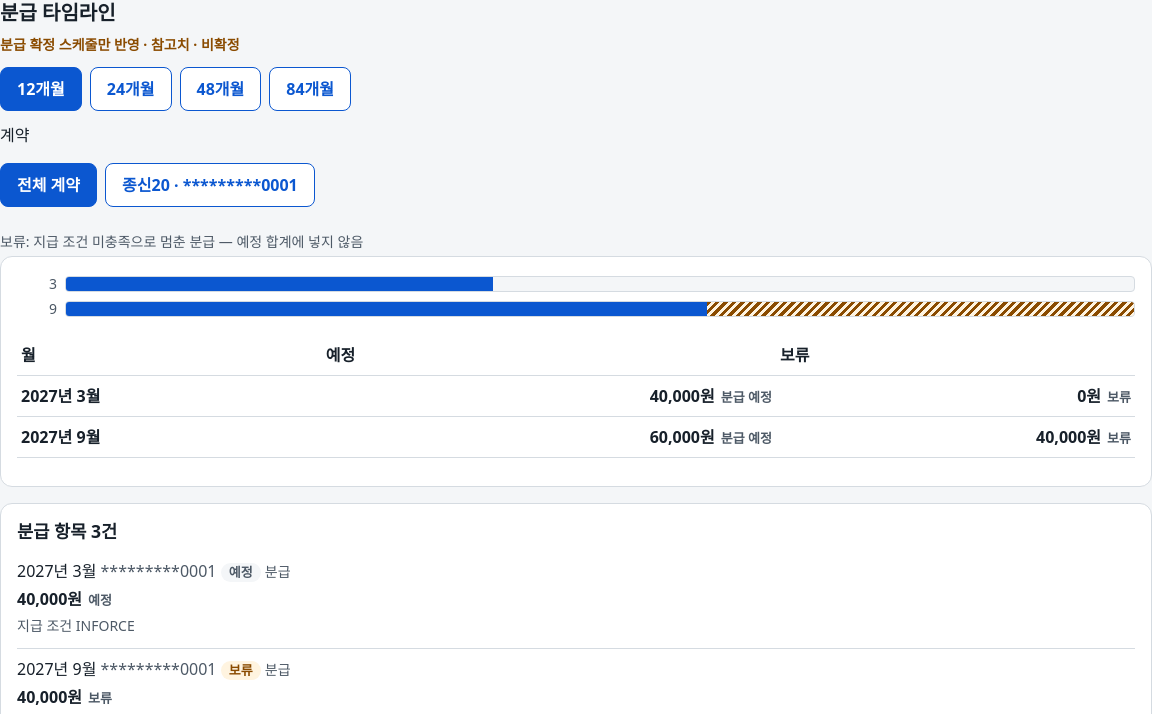
timeline › period and contract filter go to the query (84 months, policyKey), never into the address
The width and height of the screenshot is (1152, 714).
Click the button with test id "period-84" at (310, 89), box [269,67,351,111]
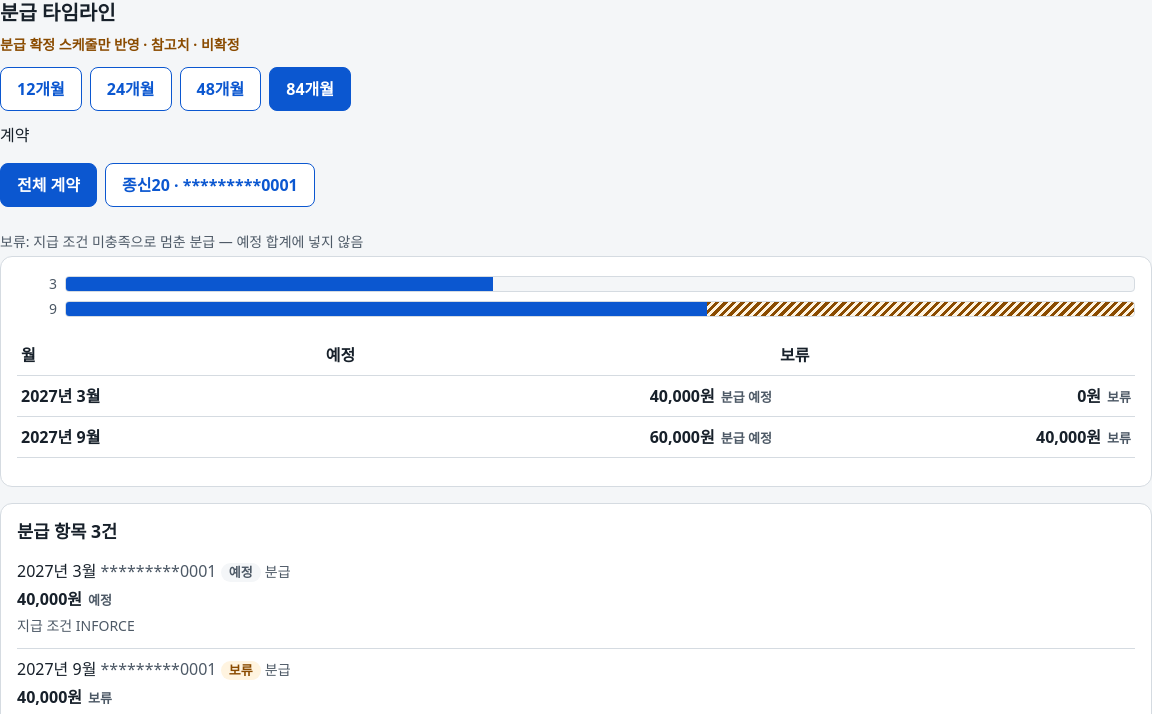
Click the button "종신20 · *********0001" at (210, 185), box [105,163,315,207]
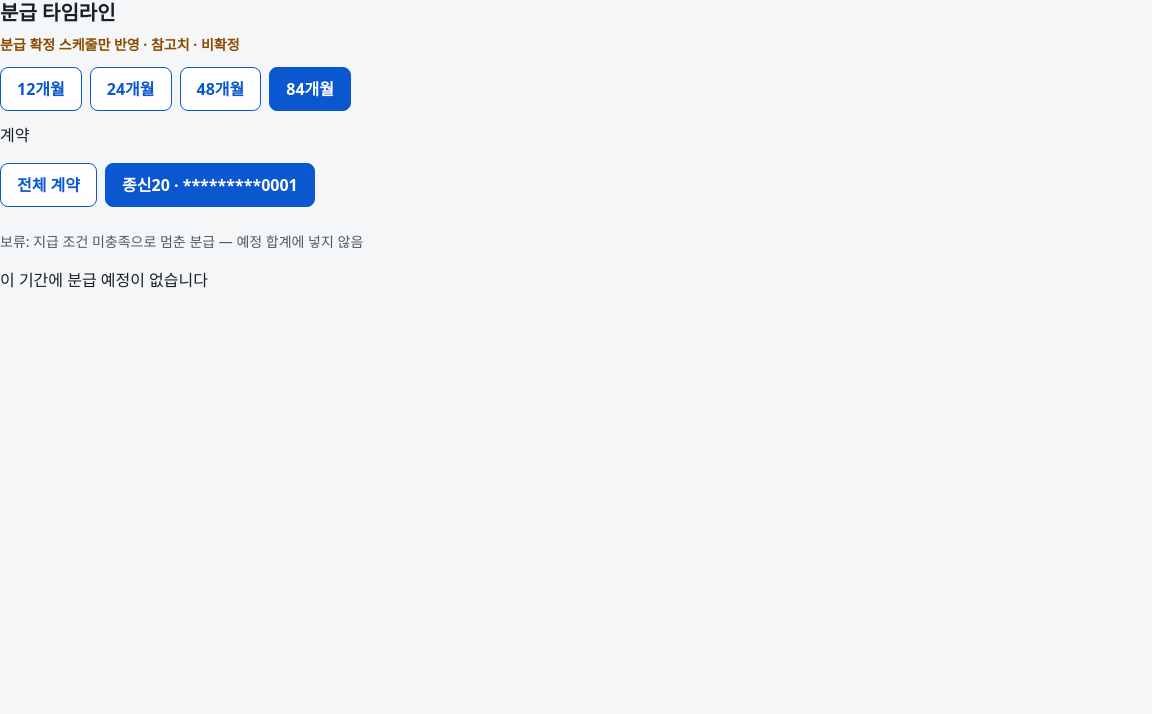
Result: the text with test id "timeline-empty" reads "이 기간에 분급 예정이 없습니다" at [0,269,208,291]
